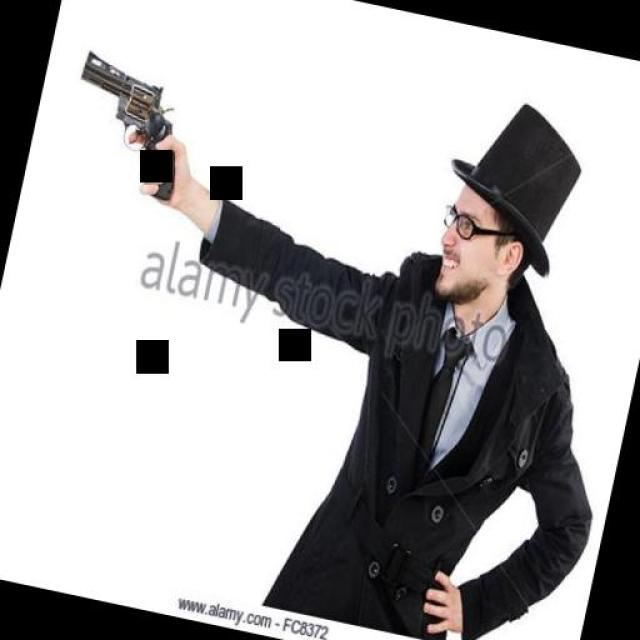gun: (56, 41, 199, 201)
